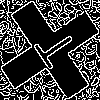T: (25, 25, 80, 77)
